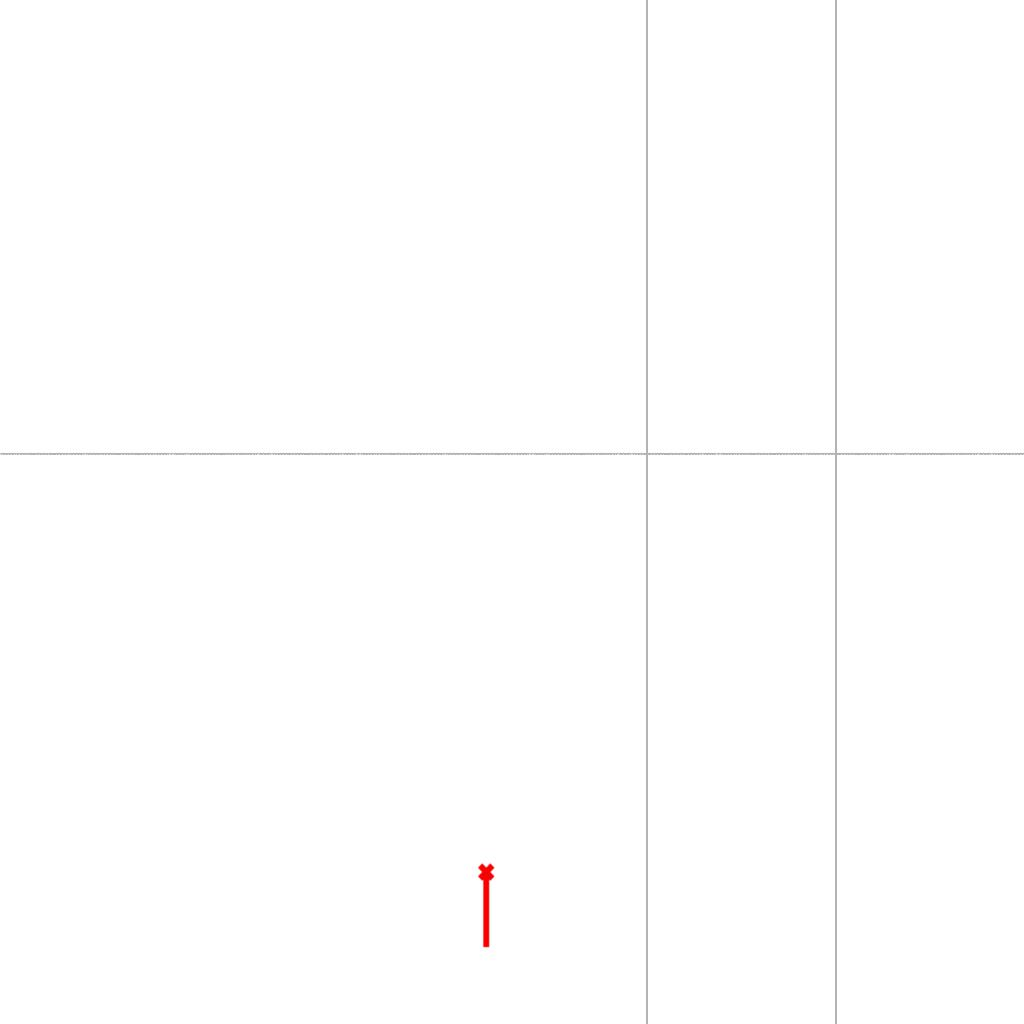ASR_Ansaugoeffnung: (476, 862, 499, 950)
